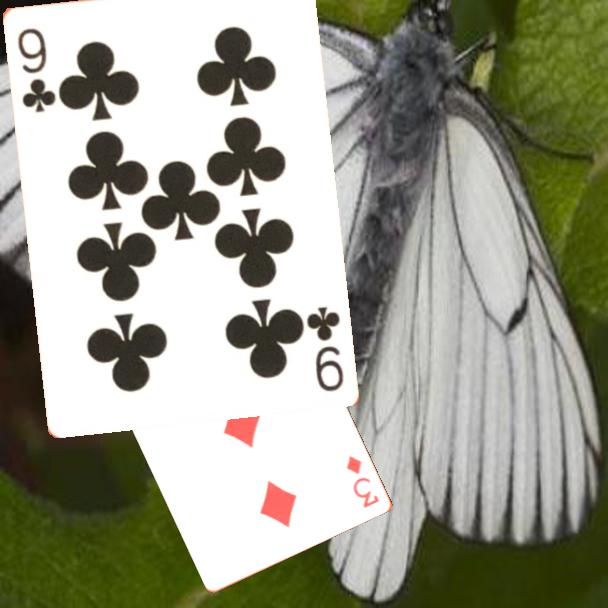c09: (13, 24, 58, 115), (302, 302, 346, 394)
d03: (343, 452, 383, 511)
